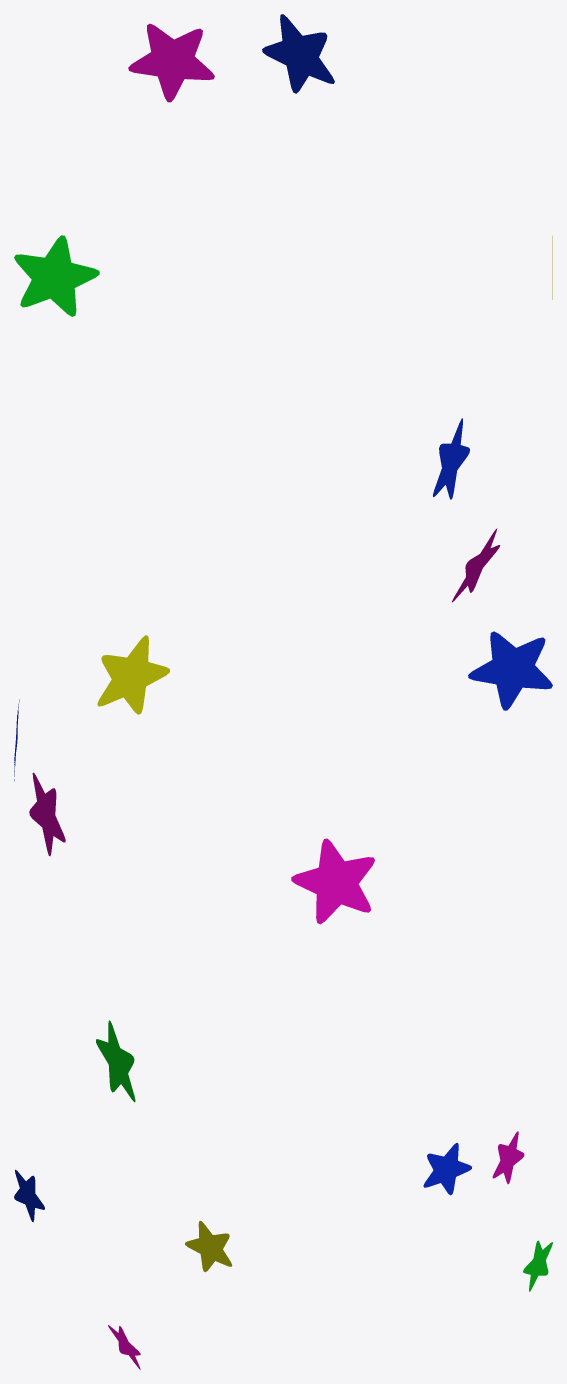
Rendered from Pimple_Patch.glb.
3 views of the same model, one above another, from view 1: azimuth 30°, elevation 25°; view 2: azimuth 150°, elevation 25°; view 3: azimuth 270°, elevation 25° (orthographic). The views are drawn at different scales.
Parts seen in each view (by area): view 1: Pimple Patch; view 2: Pimple Patch; view 3: Pimple Patch.
Part boxes in pixels (x1,y1,x2,y2): Pimple Patch: (14,14,552,602); Pimple Patch: (14,631,552,1102); Pimple Patch: (14,1131,552,1369).
Bounding box in the file's own units: 0.6162 × 0.7776 × 1.55.
